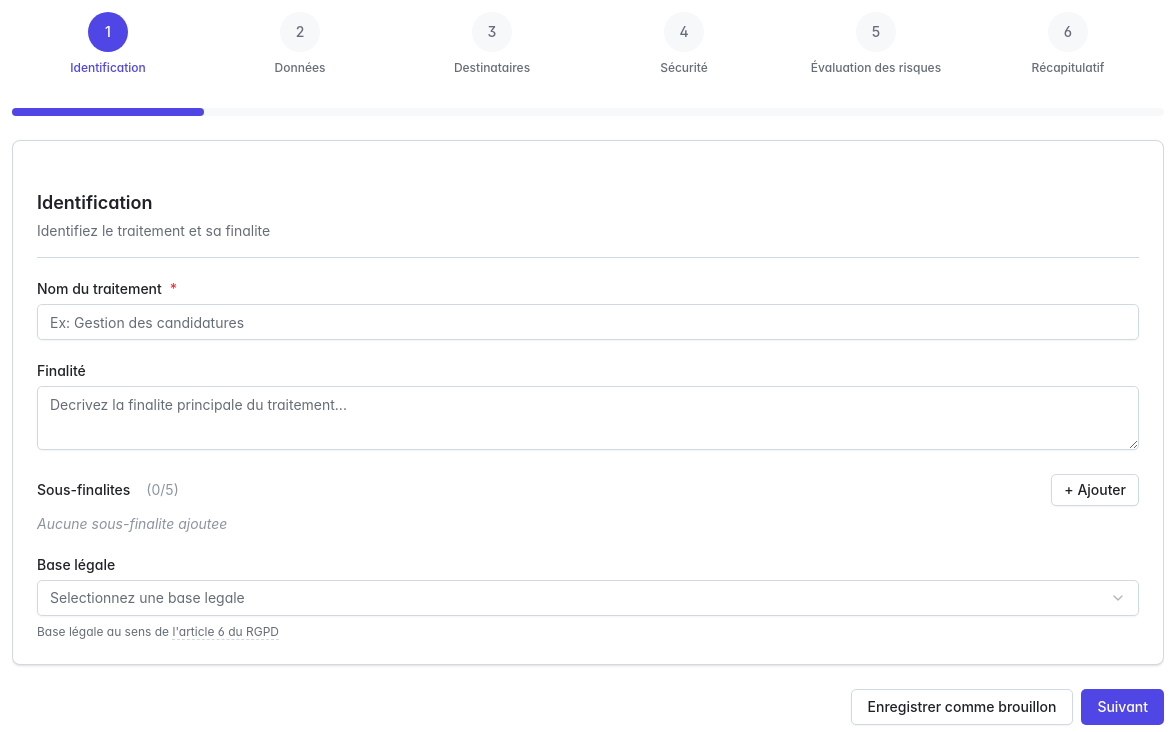
Test: TreatmentWizard › jumps backward to an earlier step when its indicator button is clicked
This screenshot has width=1176, height=732.
# Advance to step 2.
In the field labelled "Nom du traitement *": (588, 322) [37,304,1139,340], type "Gestion RH"
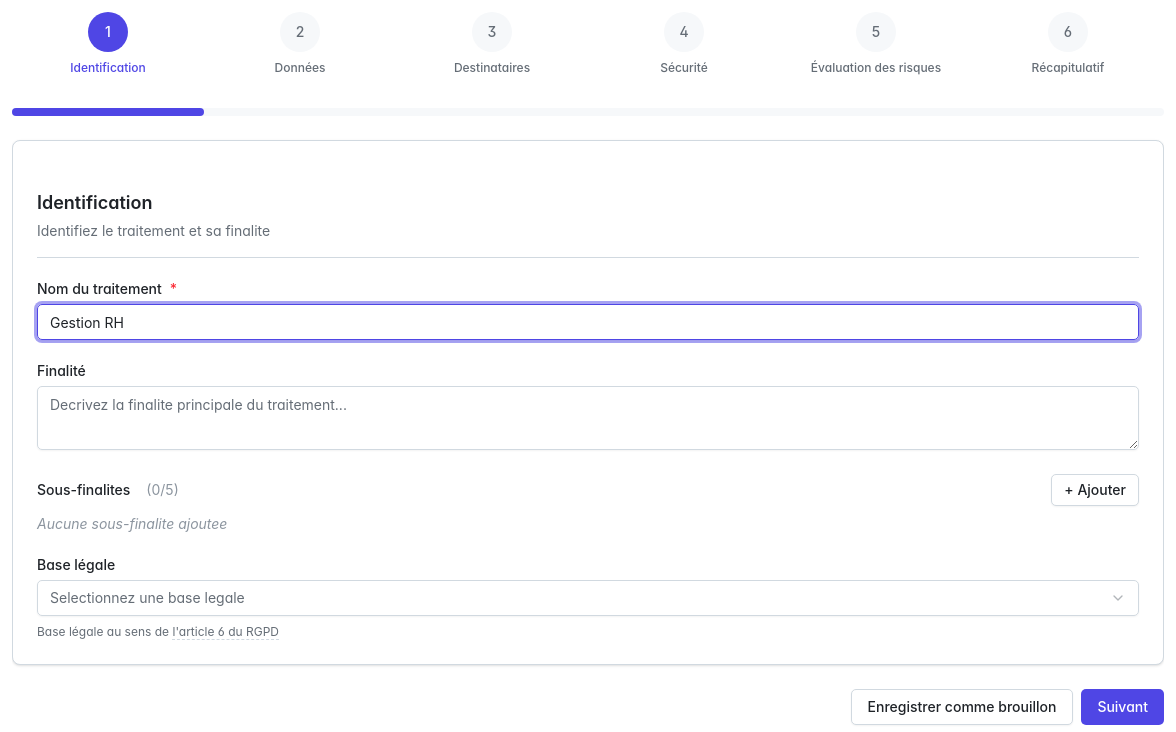
Click the button "Suivant": (1123, 707) [1081,689,1164,725]
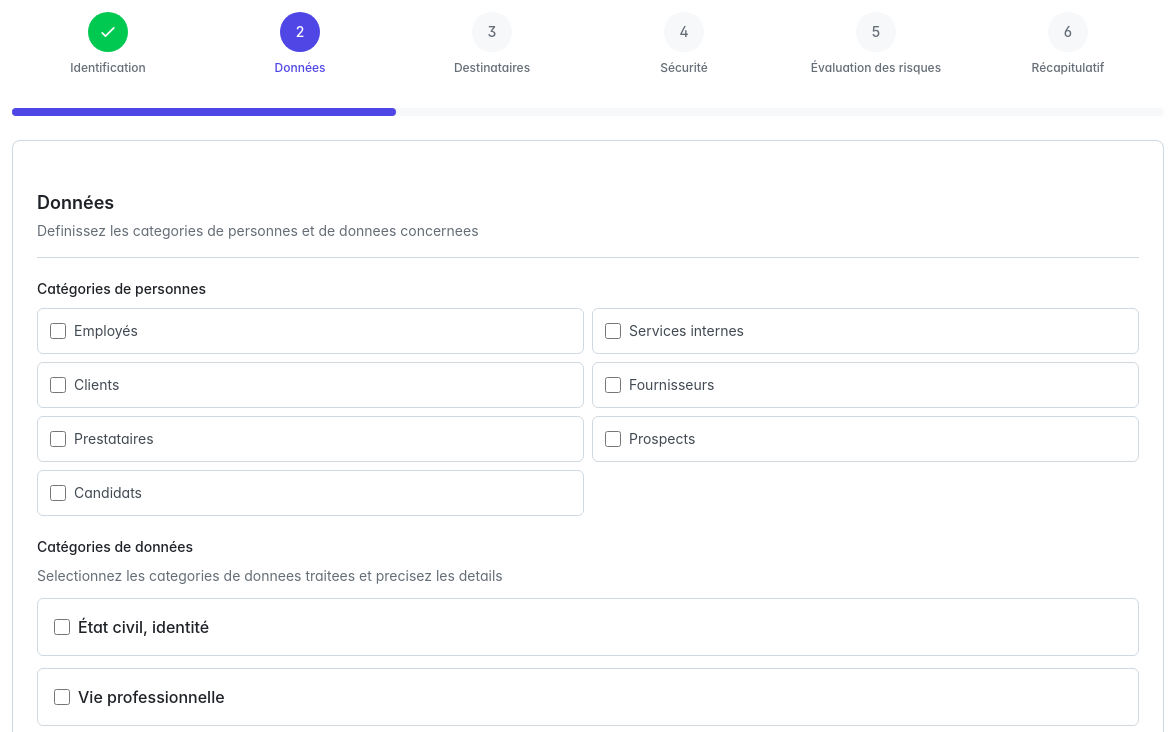
Expected: the heading "Données" is shown, [37,192,114,213]
Click the button "Identification": (108, 44) [12,12,204,76]
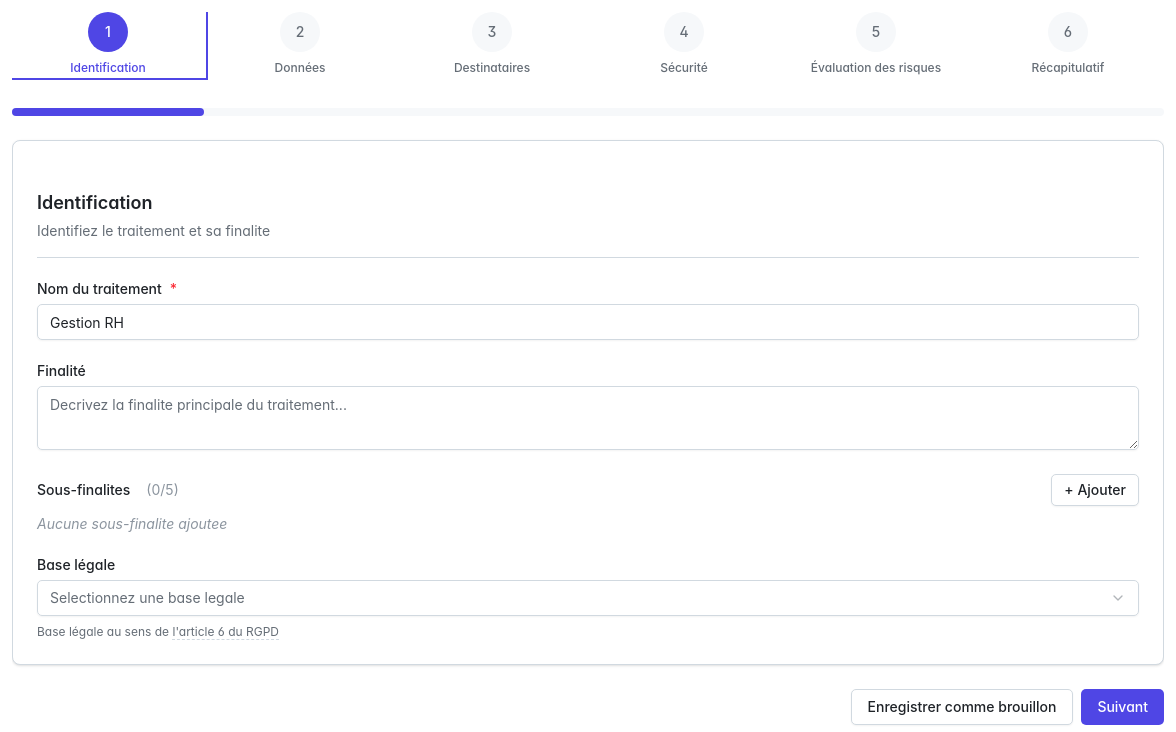
Expected: the heading "Identification" is shown, [37,192,152,213]
